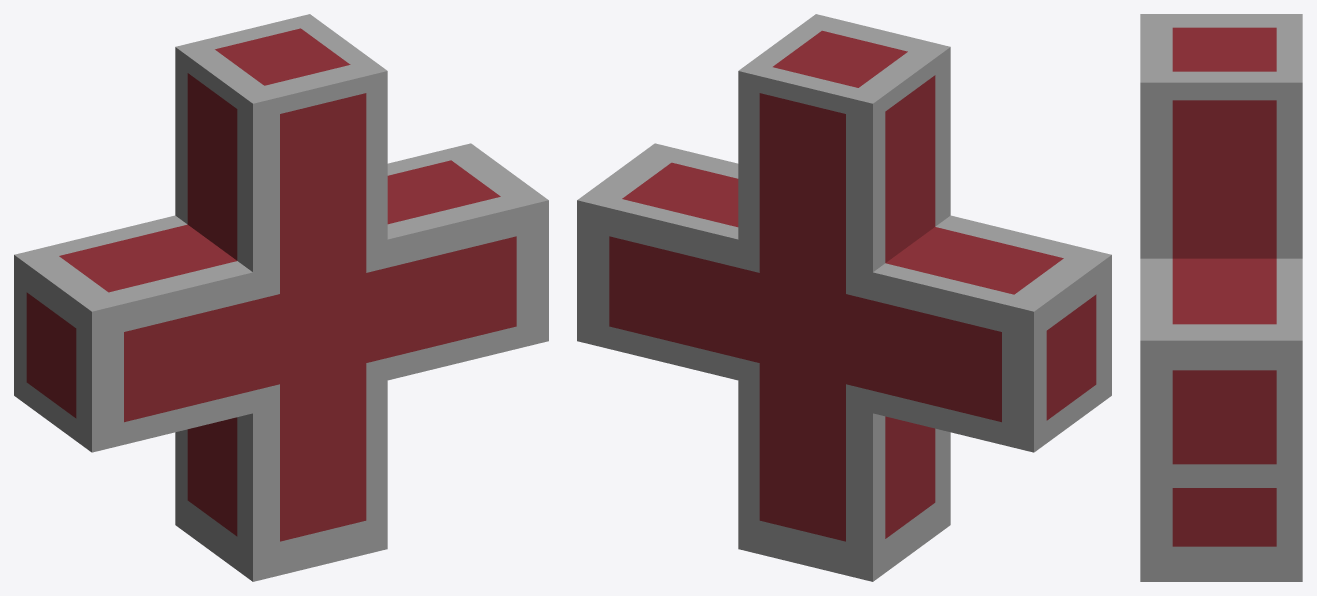
The model's file is HEALTH.fbx.
3 views of the same model, side by side, from view 1: azimuth 30°, elevation 25°; view 2: azimuth 150°, elevation 25°; view 3: azimuth 270°, elevation 25° (orthographic). The views are drawn at different scales.
Visible parts, largest first — view 1: pCube1; view 2: pCube1; view 3: pCube1.
Part boxes in pixels (left/top/right/bottom): pCube1: left=14, top=14, right=548, bottom=581; pCube1: left=577, top=14, right=1111, bottom=581; pCube1: left=1140, top=14, right=1302, bottom=581.
Size of the model in its own units: 28.36 by 28.36 by 8.36.
